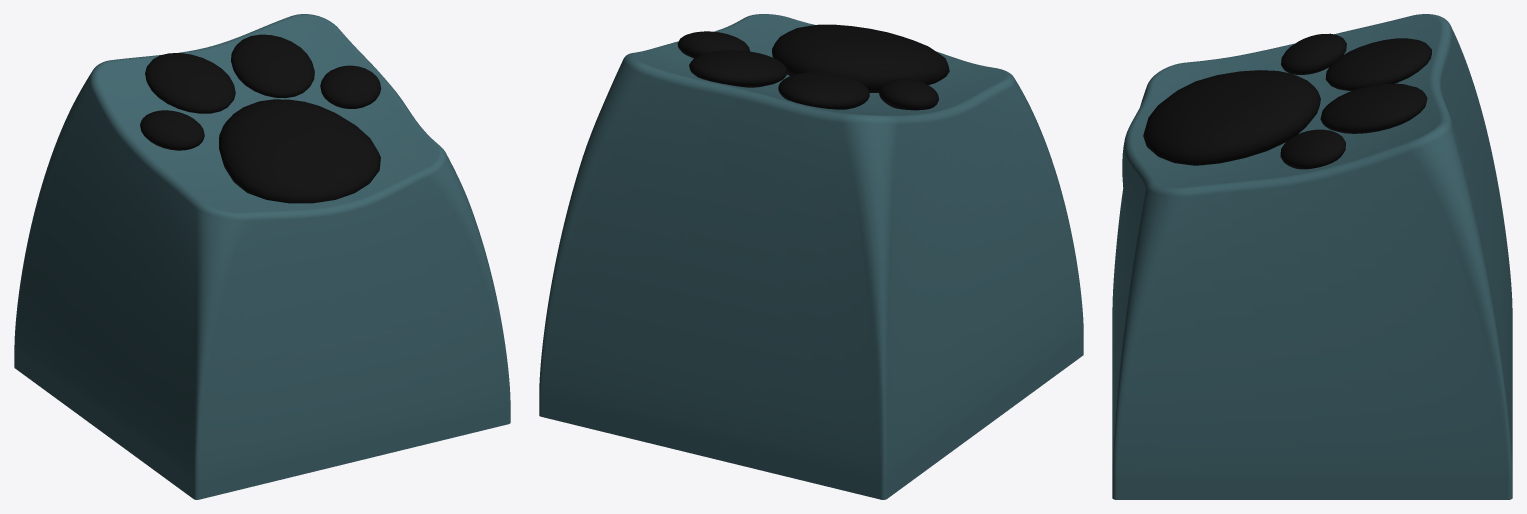
File: Artisan_Paw.FBX
3 views of the same model, side by side, from view 1: azimuth 30°, elevation 25°; view 2: azimuth 150°, elevation 25°; view 3: azimuth 270°, elevation 25° (orthographic). The views are drawn at different scales.
Visible parts, largest first — view 1: _STL_BINARY_, Sphere001, Sphere004, Sphere005, Sphere003, Sphere002; view 2: _STL_BINARY_, Sphere001, Sphere005, Sphere004, Sphere002, Sphere003; view 3: _STL_BINARY_, Sphere001, Sphere005, Sphere004, Sphere003, Sphere002.
Part boxes in pixels (left/top/right/bottom): _STL_BINARY_: left=14, top=14, right=510, bottom=499; Sphere001: left=219, top=99, right=380, bottom=203; Sphere004: left=145, top=53, right=235, bottom=113; Sphere005: left=231, top=34, right=314, bottom=98; Sphere003: left=320, top=65, right=381, bottom=108; Sphere002: left=140, top=110, right=204, bottom=150; _STL_BINARY_: left=539, top=14, right=1083, bottom=499; Sphere001: left=772, top=24, right=949, bottom=92; Sphere005: left=689, top=50, right=787, bottom=87; Sphere004: left=778, top=72, right=869, bottom=109; Sphere002: left=878, top=78, right=938, bottom=110; Sphere003: left=677, top=31, right=749, bottom=58; _STL_BINARY_: left=1112, top=14, right=1512, bottom=499; Sphere001: left=1143, top=70, right=1320, bottom=165; Sphere005: left=1320, top=83, right=1427, bottom=133; Sphere004: left=1325, top=38, right=1431, bottom=91; Sphere003: left=1280, top=129, right=1345, bottom=169; Sphere002: left=1281, top=33, right=1346, bottom=74.
Bounding box in the file's own units: 18.2 × 17.34 × 18.2.
